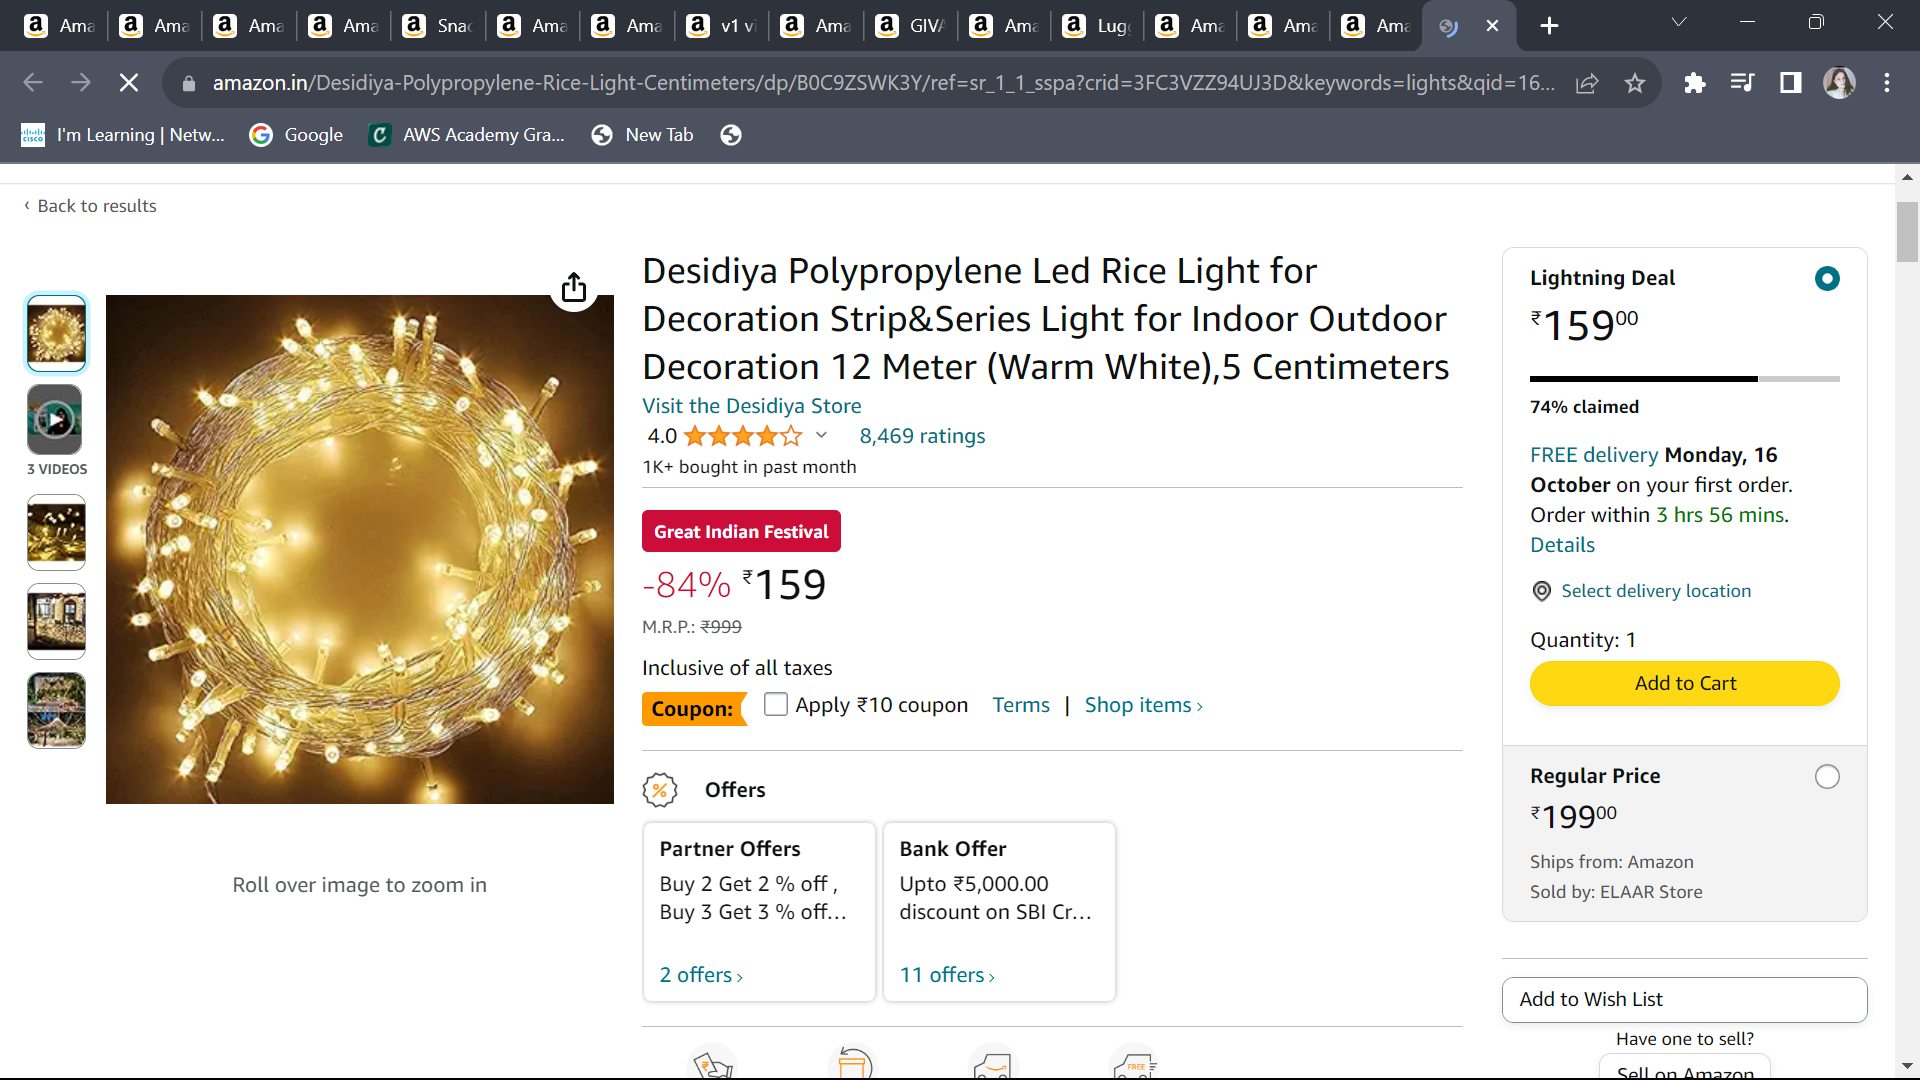Image: (99, 262, 624, 848)
Paragraph: (640, 765, 1153, 1018), (624, 251, 1481, 388), (1487, 746, 1857, 926), (1505, 430, 1807, 628), (633, 400, 997, 513), (624, 687, 1221, 735), (1523, 272, 1762, 376), (1495, 961, 1870, 1025), (1511, 663, 1842, 720), (628, 567, 884, 640), (212, 872, 505, 899), (1514, 388, 1675, 436), (1502, 633, 1654, 651), (1660, 411, 1675, 433)
